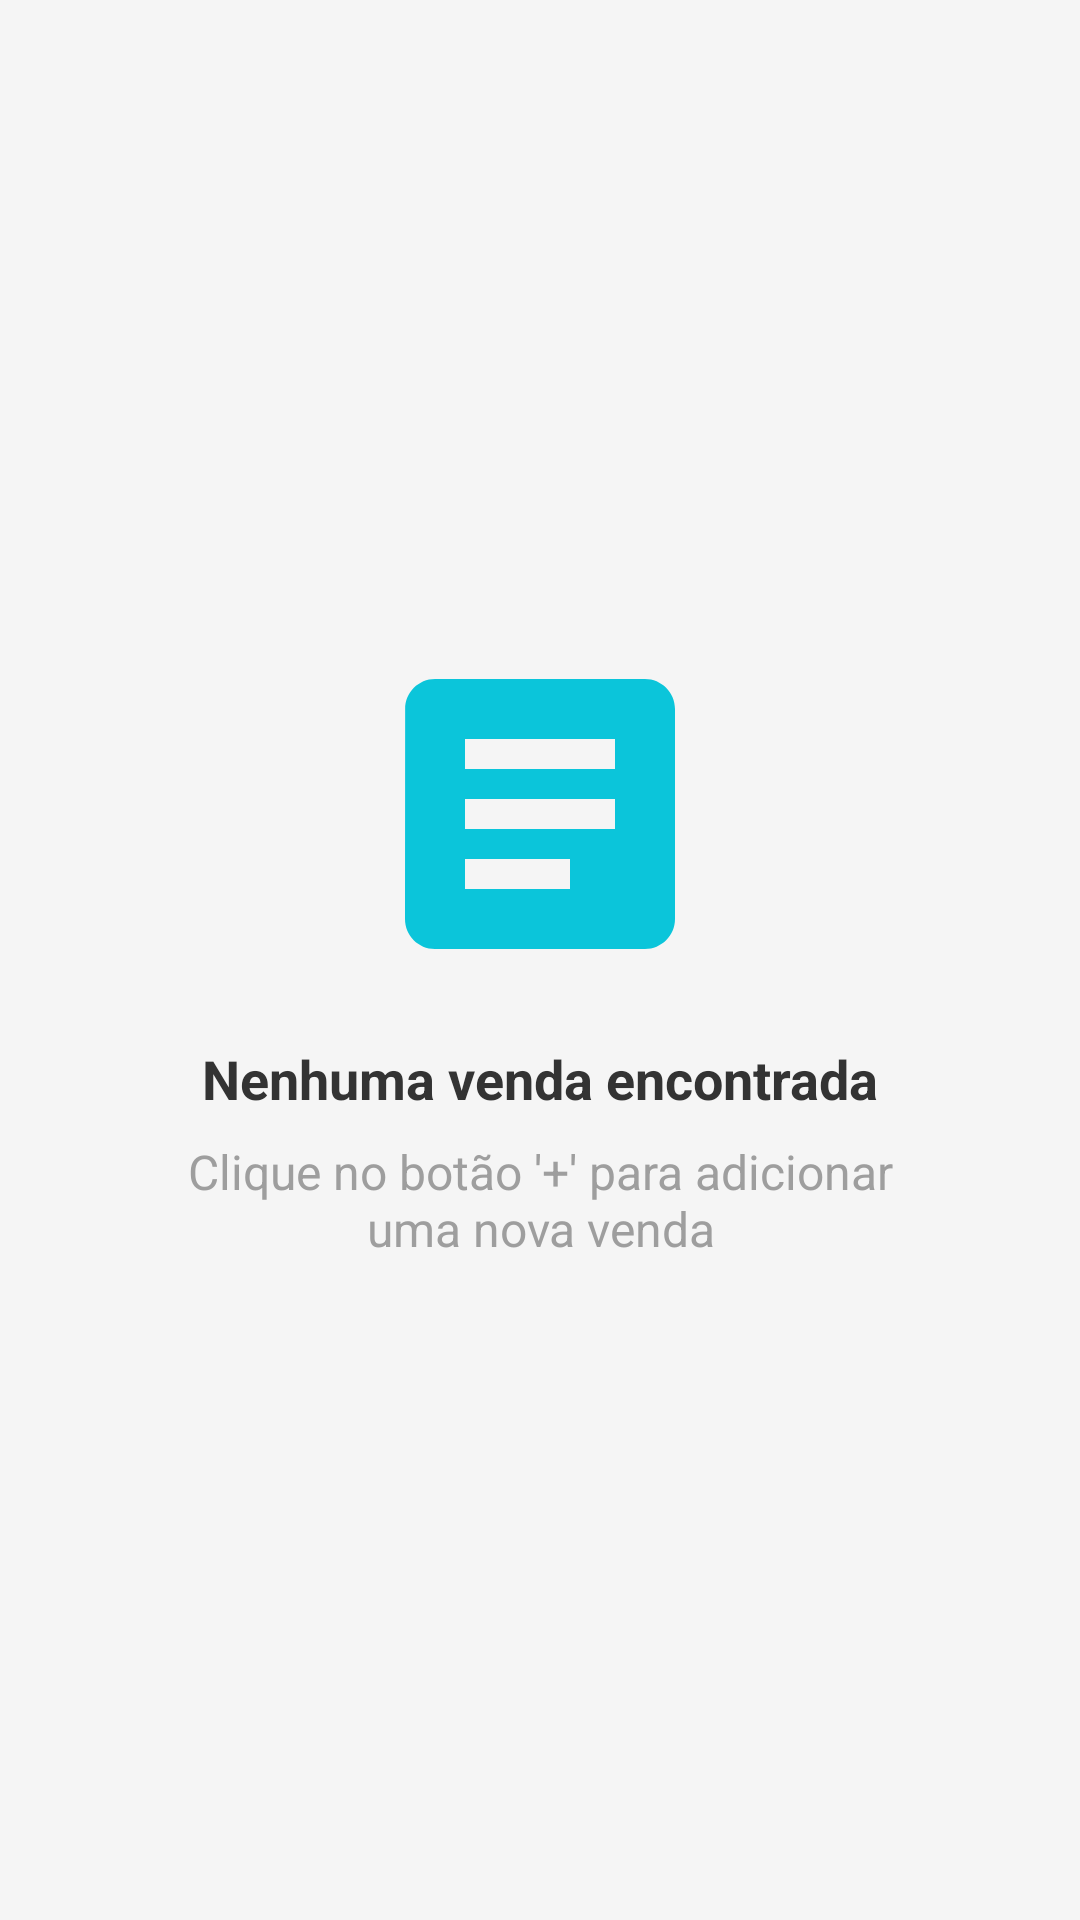

Point at icon controls on the screen. Image size 1080px×1920px, points as point (x, y).
Sem registros: point (540, 814)
